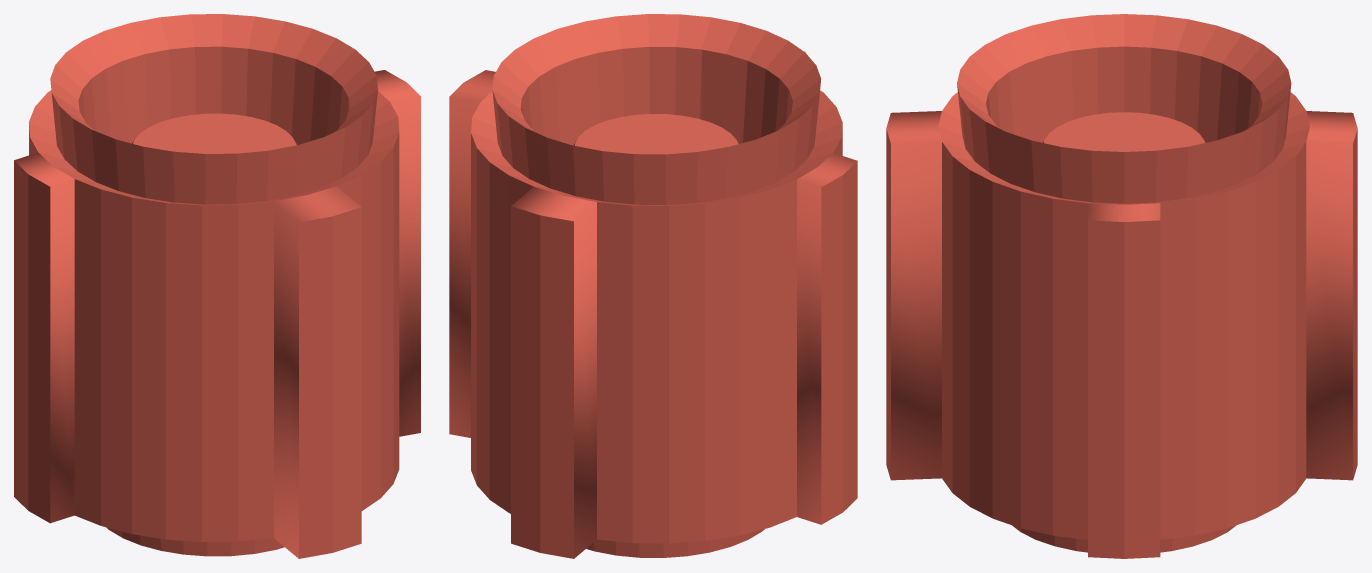
The model's file is Fusee.fbx.
The picture shows the model from 3 angles, left to right: view 1: azimuth 30°, elevation 25°; view 2: azimuth 150°, elevation 25°; view 3: azimuth 270°, elevation 25°; orthographic projection.
Visible parts, largest first — view 1: Cylinder, Cylinder.001; view 2: Cylinder, Cylinder.001; view 3: Cylinder, Cylinder.001.
Part boxes in pixels (left/top/right/bottom): Cylinder: left=14, top=70, right=420, bottom=558; Cylinder.001: left=50, top=14, right=377, bottom=556; Cylinder: left=449, top=51, right=857, bottom=558; Cylinder.001: left=492, top=14, right=821, bottom=557; Cylinder: left=886, top=92, right=1357, bottom=558; Cylinder.001: left=957, top=14, right=1291, bottom=552.
Size of the model in its own units: 235 by 250 by 254.
